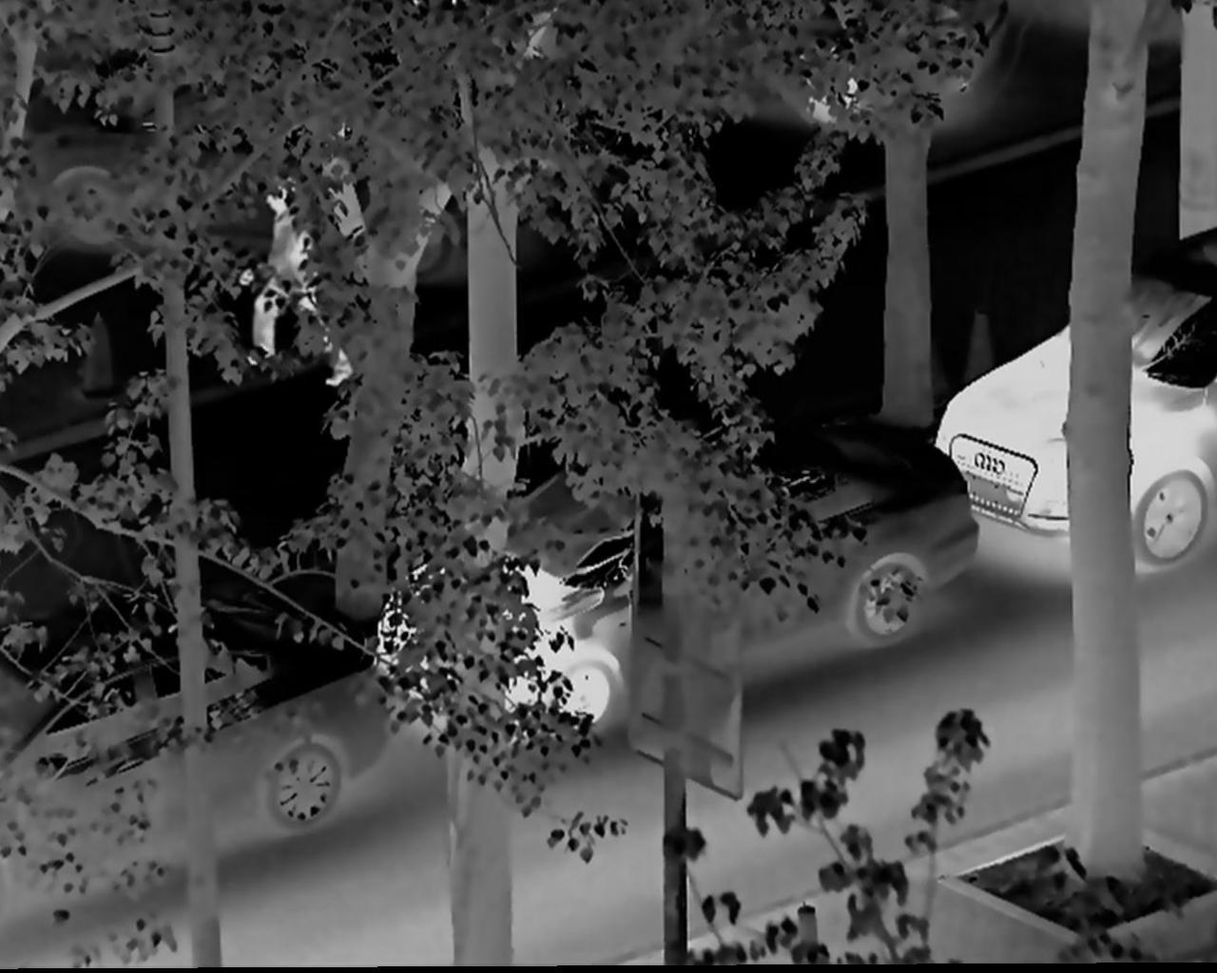person: (241, 183, 343, 402)
